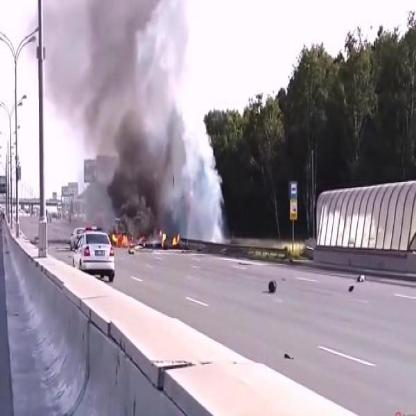fire: (111, 228, 144, 251), (171, 229, 183, 248), (156, 229, 168, 246)
